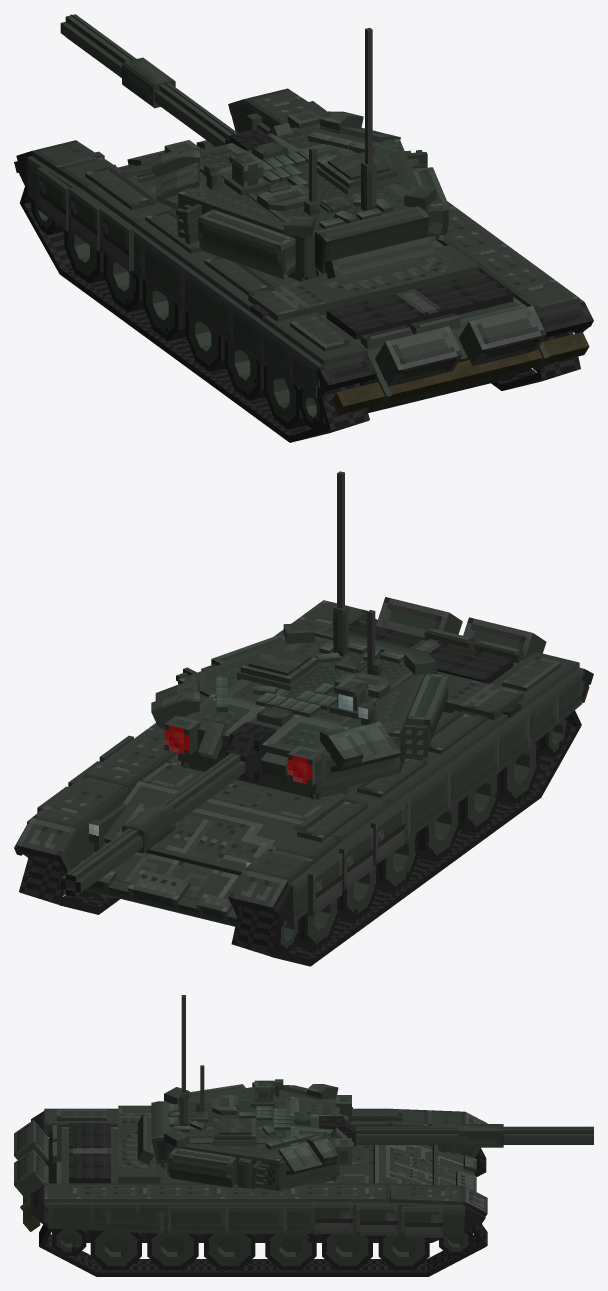
3 renders of one model, top to bottom at view 1: azimuth 30°, elevation 25°; view 2: azimuth 150°, elevation 25°; view 3: azimuth 270°, elevation 25°, orthographic. The views are drawn at different scales.
Parts seen in each view (by area): view 1: cube (×58); view 2: cube (×57); view 3: cube (×55).
Part boxes in pixels (<box>): cube (×58): <box>20,14,593,442</box>; cube (×57): <box>16,471,584,966</box>; cube (×55): <box>14,995,593,1276</box>.
Size of the model in its own units: 3.5 by 4.06 by 8.84.
1 material, 1 textured.
